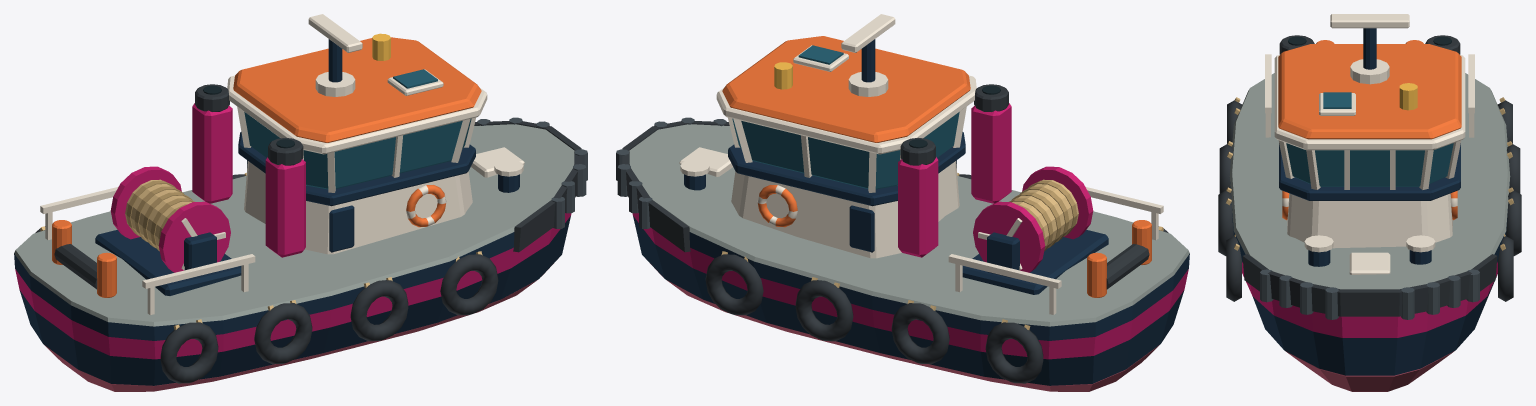
The model's file is harbor-tug.glb.
3 views of the same model, side by side, from view 1: azimuth 30°, elevation 25°; view 2: azimuth 150°, elevation 25°; view 3: azimuth 270°, elevation 25° (orthographic).
Visible parts, largest first — view 1: Harbor tug, Towing winch; view 2: Harbor tug, Towing winch; view 3: Harbor tug.
Boxes of the visible parts, box(x1,y1,x2,y2) form: Harbor tug: box(14, 14, 587, 391); Towing winch: box(110, 166, 230, 272); Harbor tug: box(616, 14, 1189, 391); Towing winch: box(973, 166, 1093, 272); Harbor tug: box(1218, 14, 1521, 391).
Size of the model in its own units: 2.92 by 1.51 by 1.49.
